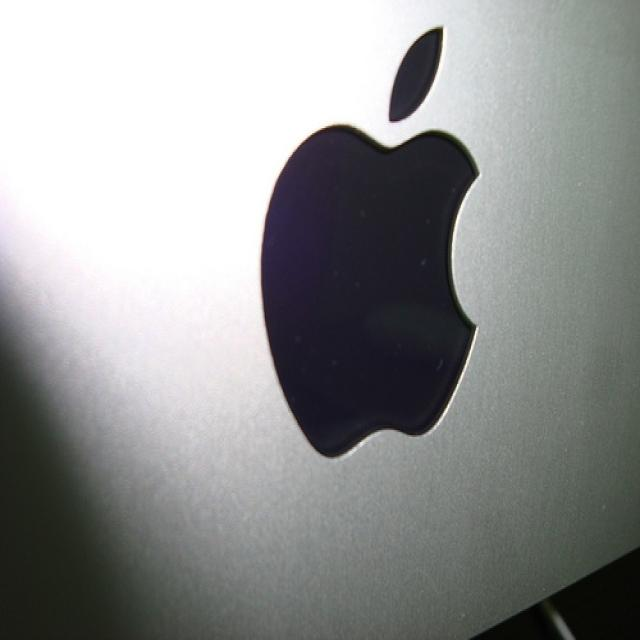apple: (249, 12, 489, 476)
